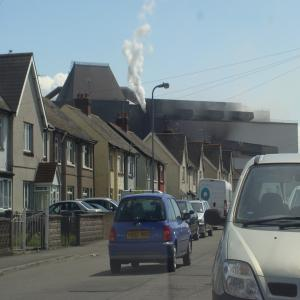Vehicle-registration-plate: (129, 231, 152, 239)
